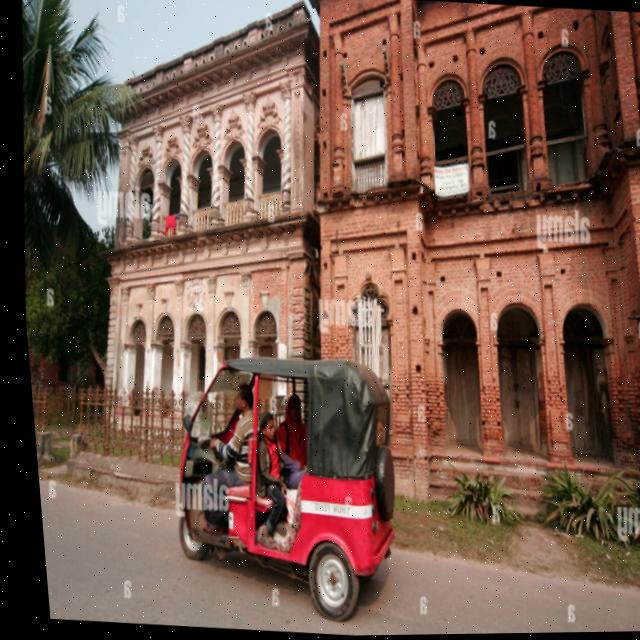cng: (141, 330, 413, 634)
